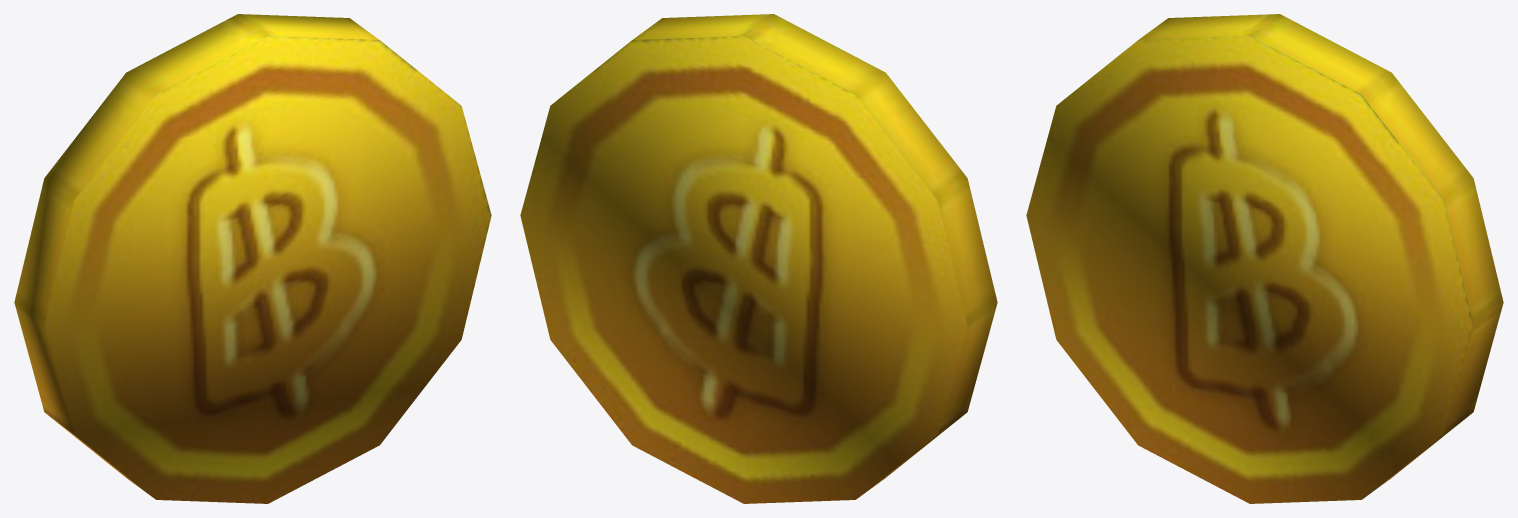
Rendered from jinbi.FBX.
3 renders of one model, left to right at view 1: azimuth 30°, elevation 25°; view 2: azimuth 150°, elevation 25°; view 3: azimuth 330°, elevation 25°, orthographic.
Parts seen in each view (by area): view 1: Coin; view 2: Coin; view 3: Coin.
Boxes of the visible parts, left/top/right/bottom form: Coin: left=14, top=14, right=491, bottom=503; Coin: left=520, top=14, right=997, bottom=503; Coin: left=1026, top=14, right=1503, bottom=503.
Size of the model in its own units: 0.2362 by 0.2362 by 0.0276.
Materials: 1 (1 with a texture image).
